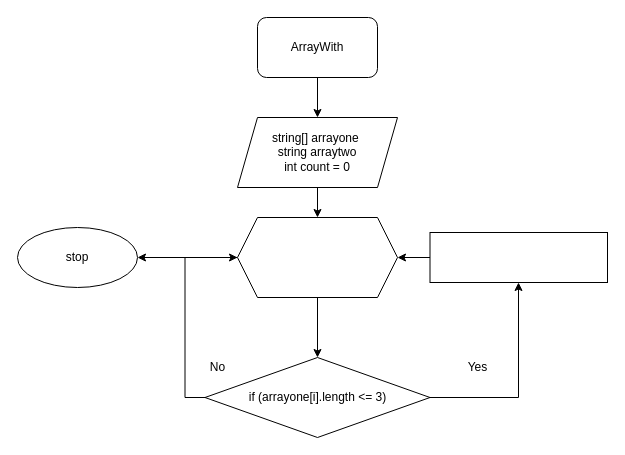
The diagram is 625 pixels wide and 455 high, and some of its shapes have lost their labels. The box of each missing label's shape, as (x1, y1, x2, y2) in pixels:
arraytwo[count] = arrayone[i] count++;: (429, 232, 608, 282)
for (int i = 0; i < arrayone.length; i++): (236, 216, 398, 298)
